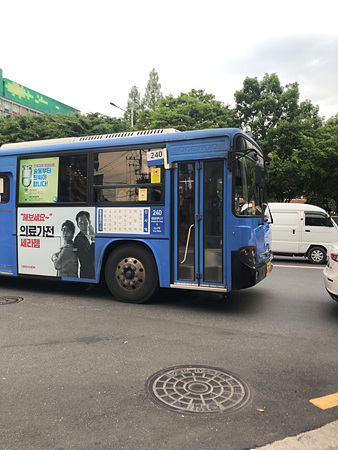entrance: (171, 154, 229, 293)
